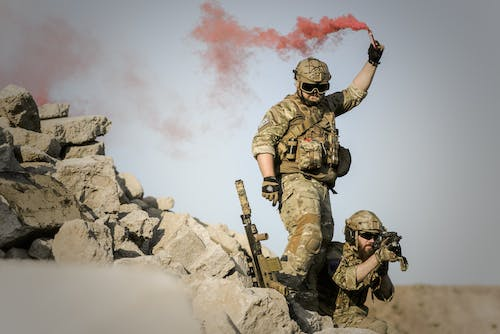gun: (234, 176, 288, 298), (373, 230, 404, 250)
